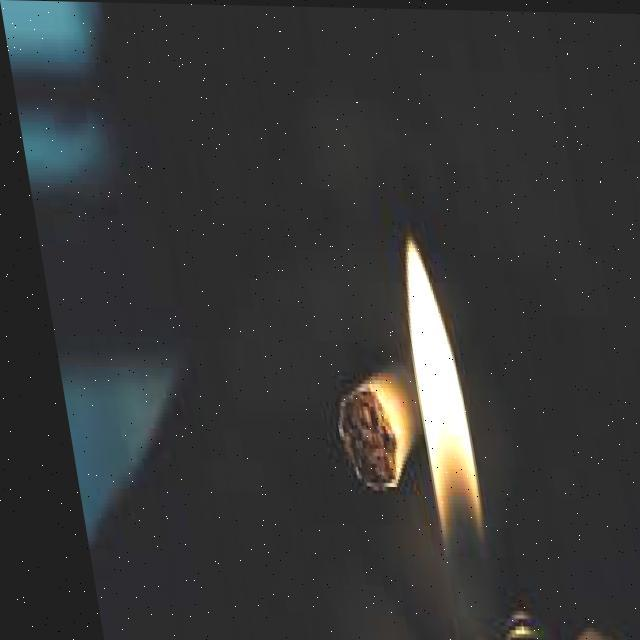Fire: (371, 223, 484, 540)
